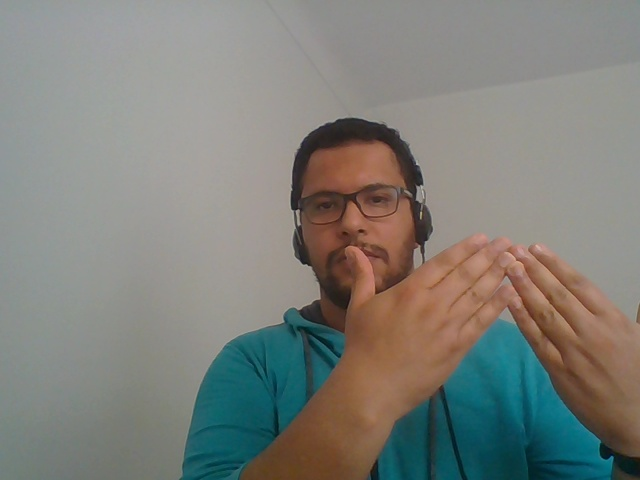thanks: (334, 229, 640, 480)
